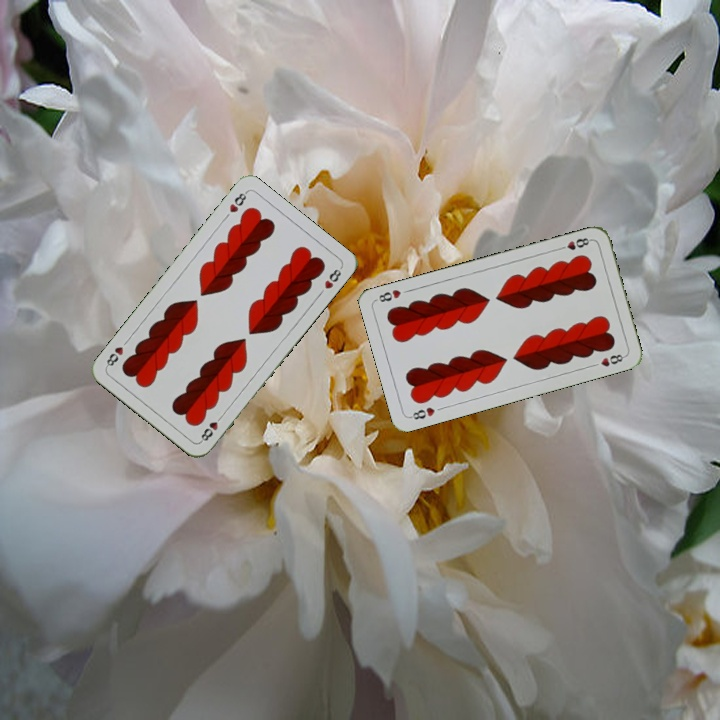H8: (197, 410, 226, 444), (554, 234, 594, 253), (225, 188, 249, 215), (406, 403, 438, 422)
